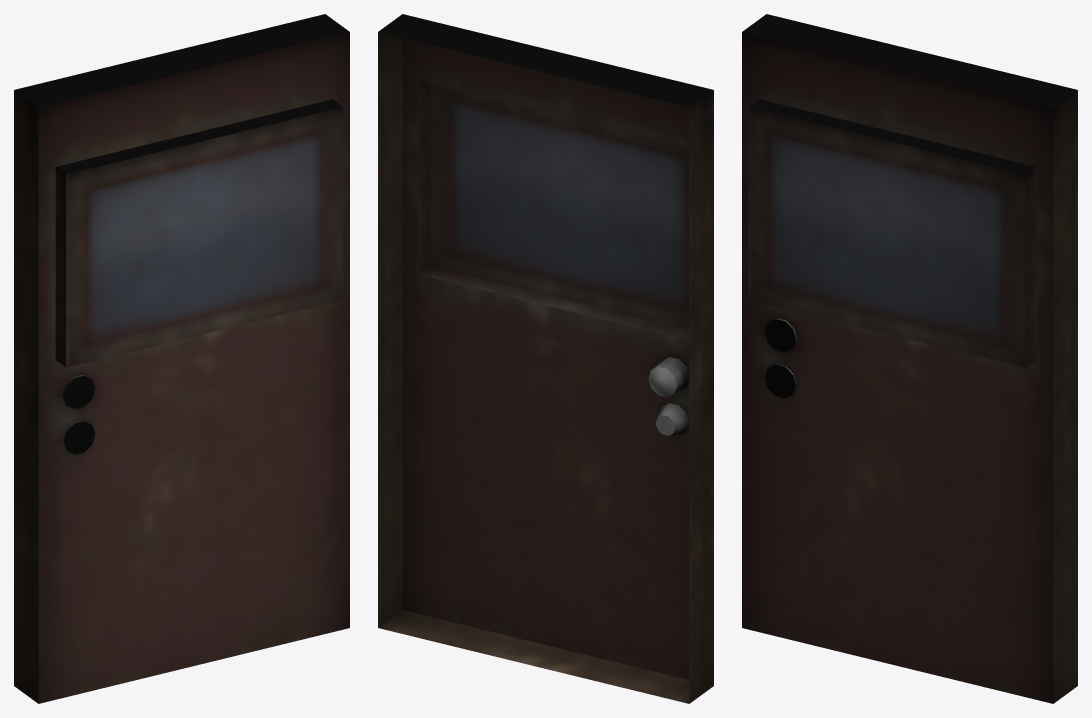
Rendered from House_02_06.fbx.
3 views of the same model, side by side, from view 1: azimuth 30°, elevation 25°; view 2: azimuth 150°, elevation 25°; view 3: azimuth 330°, elevation 25° (orthographic).
Parts seen in each view (by area): view 1: Object001.007; view 2: Object001.007; view 3: Object001.007.
Boxes of the visible parts, x1,y1,x2,y2 form: Object001.007: [14, 14, 349, 703]; Object001.007: [378, 14, 713, 703]; Object001.007: [742, 14, 1077, 703].
Bounding box in the file's own units: 1.94 × 3.55 × 0.3776.
1 material, 1 textured.
